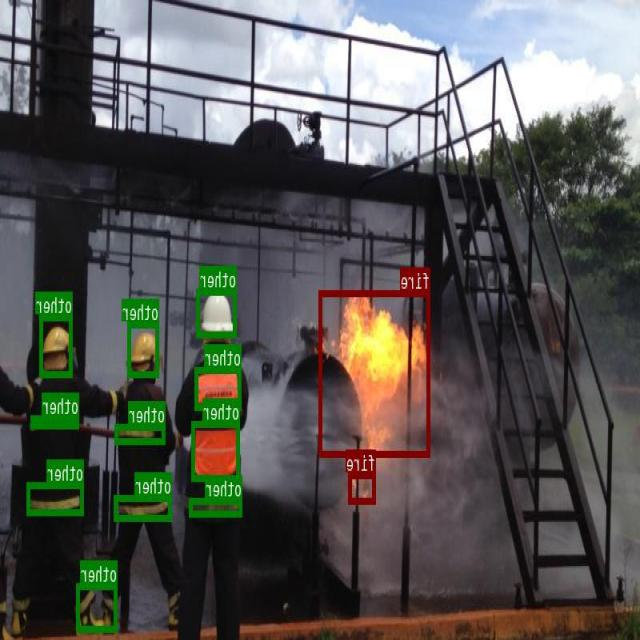fire: (320, 289, 431, 456), (349, 472, 376, 502)
other: (192, 421, 240, 479), (41, 314, 74, 376), (195, 367, 242, 409), (77, 582, 118, 630), (197, 288, 237, 336), (27, 482, 84, 514), (129, 321, 160, 376), (114, 494, 172, 520), (115, 422, 166, 442), (190, 497, 242, 515), (32, 414, 80, 427)
